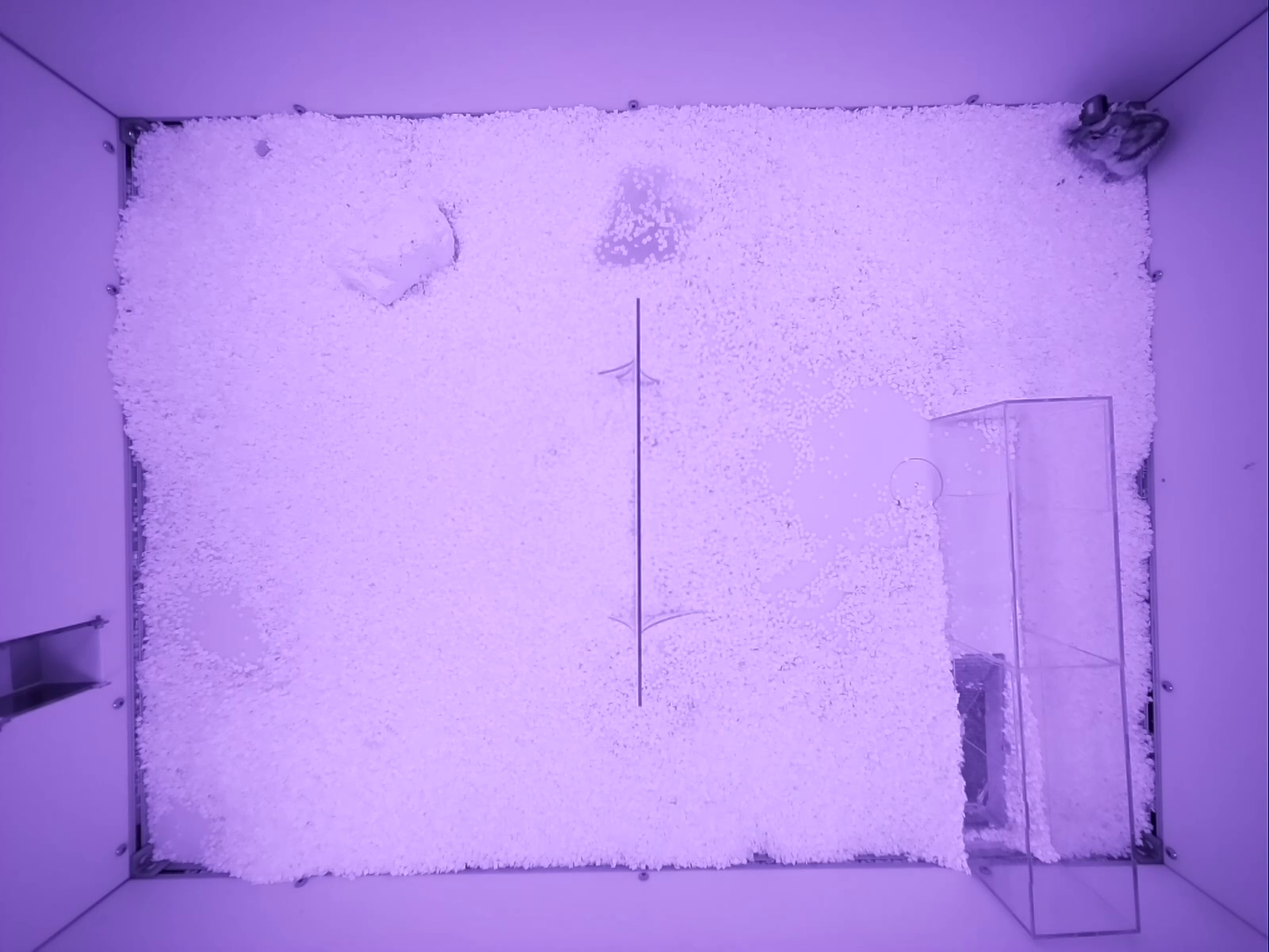adult_back: (0, 0, 1268, 951), (1065, 94, 1169, 180)
